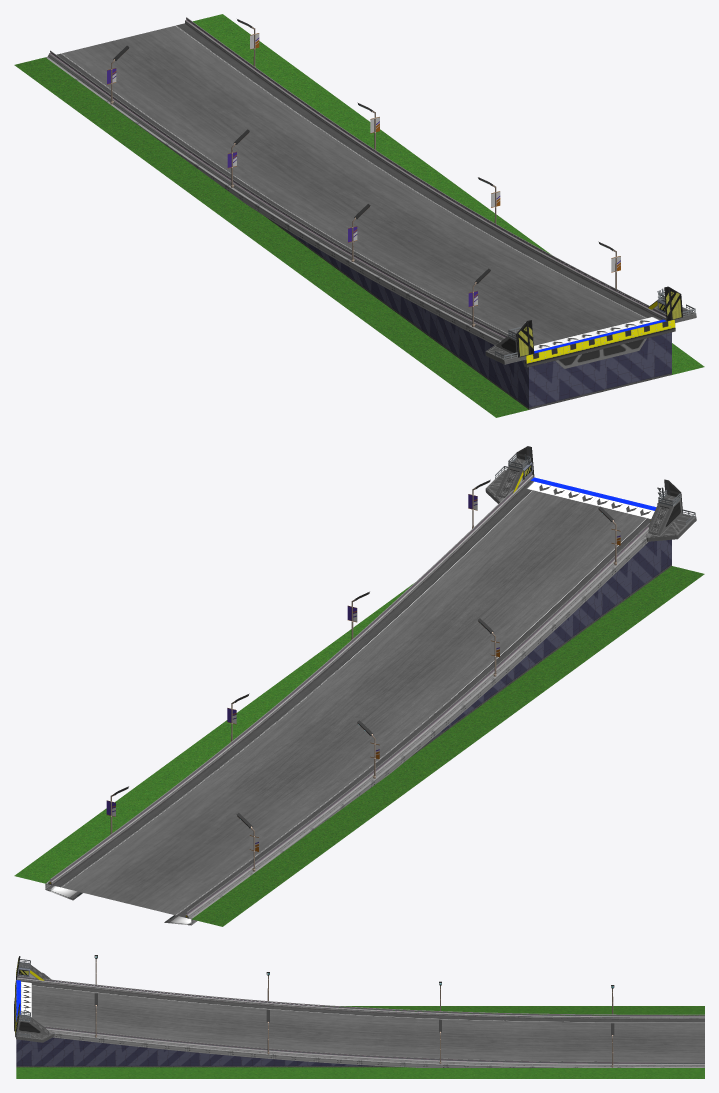
3 views of the same model, one above another, from view 1: azimuth 30°, elevation 25°; view 2: azimuth 150°, elevation 25°; view 3: azimuth 270°, elevation 25° (orthographic). The views are drawn at different scales.
Visible parts, largest first — view 1: straight_road, standard_ground_grass, retainer4, barrier_elevated8, standard_bridge8, frontplate_landing, gate, flt_lines_landing; view 2: straight_road, standard_ground_grass, barrier_elevated8, retainer4, standard_bridge8, gate, flt_lines_landing; view 3: straight_road, standard_ground_grass, barrier_elevated8, retainer4, standard_bridge8, gate, flt_lines_landing.
Part boxes in pixels (x1=…): straight_road: x1=56, y1=23, x2=662, y2=353; standard_ground_grass: x1=14, y1=14, x2=704, y2=417; retainer4: x1=265, y1=216, x2=671, y2=409; barrier_elevated8: x1=47, y1=17, x2=669, y2=354; standard_bridge8: x1=46, y1=57, x2=501, y2=345; frontplate_landing: x1=524, y1=319, x2=675, y2=368; gate: x1=485, y1=286, x2=696, y2=364; flt_lines_landing: x1=534, y1=316, x2=666, y2=353; straight_road: x1=52, y1=480, x2=650, y2=917; standard_ground_grass: x1=14, y1=566, x2=704, y2=926; barrier_elevated8: x1=48, y1=473, x2=649, y2=918; retainer4: x1=411, y1=539, x2=671, y2=756; standard_bridge8: x1=45, y1=537, x2=648, y2=925; gate: x1=485, y1=446, x2=696, y2=541; flt_lines_landing: x1=526, y1=477, x2=656, y2=519; straight_road: x1=21, y1=981, x2=704, y2=1063; standard_ground_grass: x1=16, y1=1006, x2=704, y2=1078; barrier_elevated8: x1=17, y1=975, x2=704, y2=1066; retainer4: x1=16, y1=1037, x2=401, y2=1067; standard_bridge8: x1=53, y1=1032, x2=704, y2=1067; gate: x1=16, y1=956, x2=54, y2=1042; flt_lines_landing: x1=16, y1=980, x2=31, y2=1021.
Size of the model in its own units: 6400 by 3099 by 25691.
